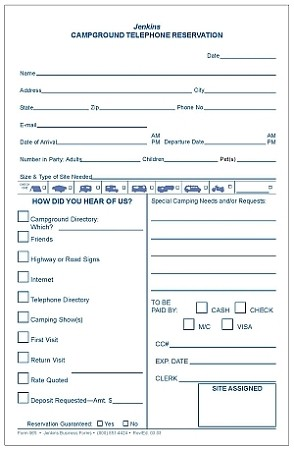checkbox: (15, 248, 32, 264), (15, 390, 31, 406), (232, 299, 248, 315), (14, 370, 31, 385), (16, 289, 31, 305), (16, 309, 31, 325), (15, 350, 31, 365), (16, 330, 31, 345), (220, 316, 235, 331), (14, 210, 30, 224), (180, 317, 196, 331), (16, 229, 30, 244), (16, 269, 30, 284), (195, 300, 209, 314), (121, 418, 130, 427), (95, 419, 105, 427), (66, 184, 73, 190), (121, 184, 127, 191), (203, 184, 209, 191), (95, 184, 100, 191), (42, 184, 47, 190), (149, 185, 155, 190), (267, 184, 273, 189), (228, 185, 233, 190), (175, 185, 179, 190)
textbox: (196, 382, 278, 427)
textline: (36, 64, 279, 79), (93, 170, 279, 182), (40, 82, 195, 95), (148, 228, 278, 242), (169, 335, 281, 351), (150, 245, 277, 259), (37, 117, 148, 132), (149, 265, 277, 278), (149, 282, 278, 294), (190, 354, 277, 369), (178, 372, 278, 385), (149, 214, 278, 224), (68, 359, 145, 375), (203, 81, 278, 96), (203, 100, 278, 114), (98, 100, 176, 113), (59, 135, 148, 146), (57, 223, 145, 234), (219, 49, 278, 63), (204, 135, 268, 147), (34, 101, 89, 113), (82, 154, 141, 165), (164, 154, 218, 165), (235, 182, 268, 196), (237, 154, 277, 164), (114, 394, 144, 406)
